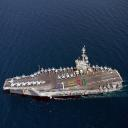Portanaves: (3, 46, 125, 102)
